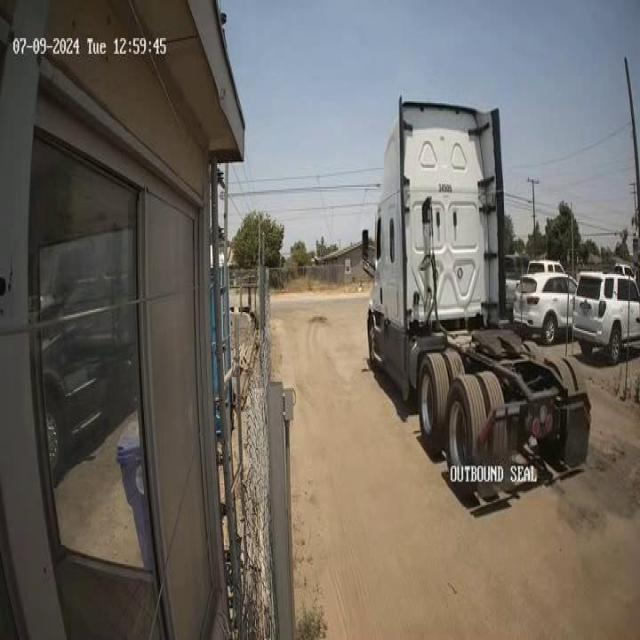BOBTAIL: (364, 95, 592, 504)
